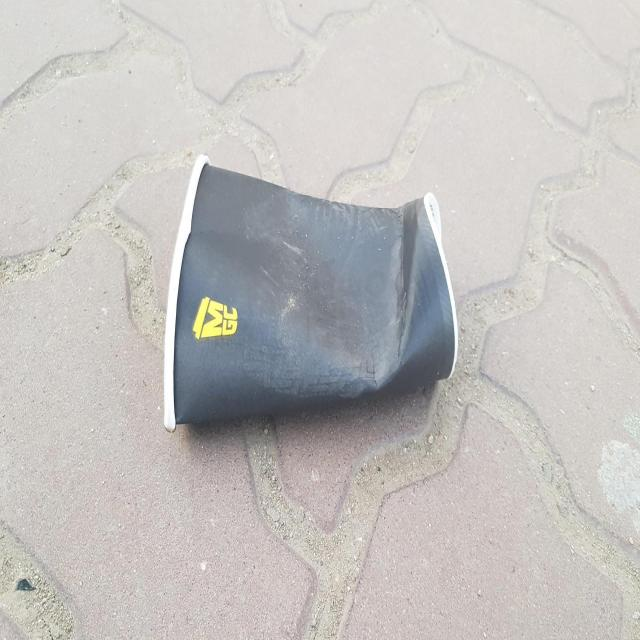paperpack: (164, 155, 458, 431)
